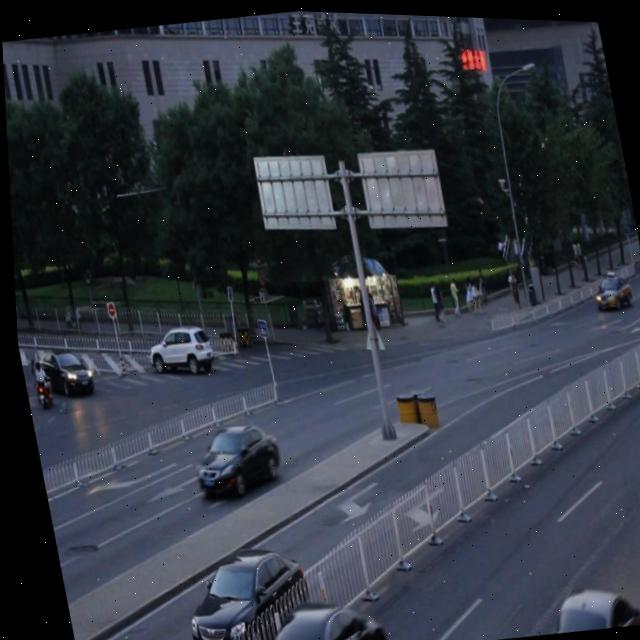car: (170, 540, 310, 640), (183, 413, 284, 505), (249, 589, 380, 640), (534, 570, 640, 633), (140, 316, 211, 379), (30, 339, 93, 403), (586, 263, 629, 304), (66, 623, 159, 640)
